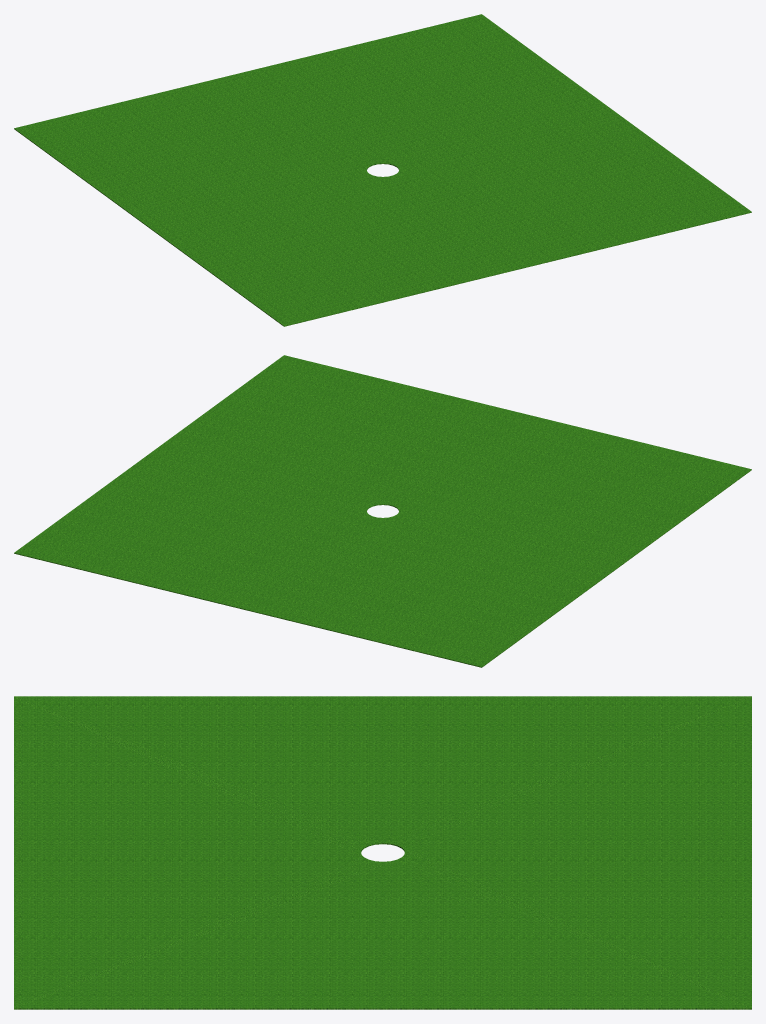
3 views of the same model, one above another, from view 1: azimuth 30°, elevation 25°; view 2: azimuth 150°, elevation 25°; view 3: azimuth 270°, elevation 25° (orthographic). The views are drawn at different scales.
Visible parts, largest first — view 1: Ground; view 2: Ground; view 3: Ground.
Boxes of the visible parts, x1,y1,x2,y2 form: Ground: (14, 14, 751, 326); Ground: (14, 355, 751, 667); Ground: (14, 696, 751, 1009).
Size of the model in its own units: 6000 by 10 by 6000.
1 material, 1 textured.
